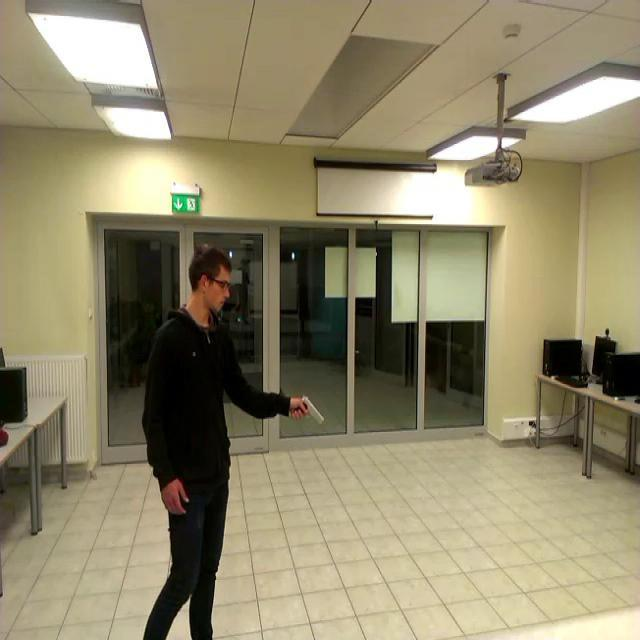weapon: (289, 394, 326, 422)
